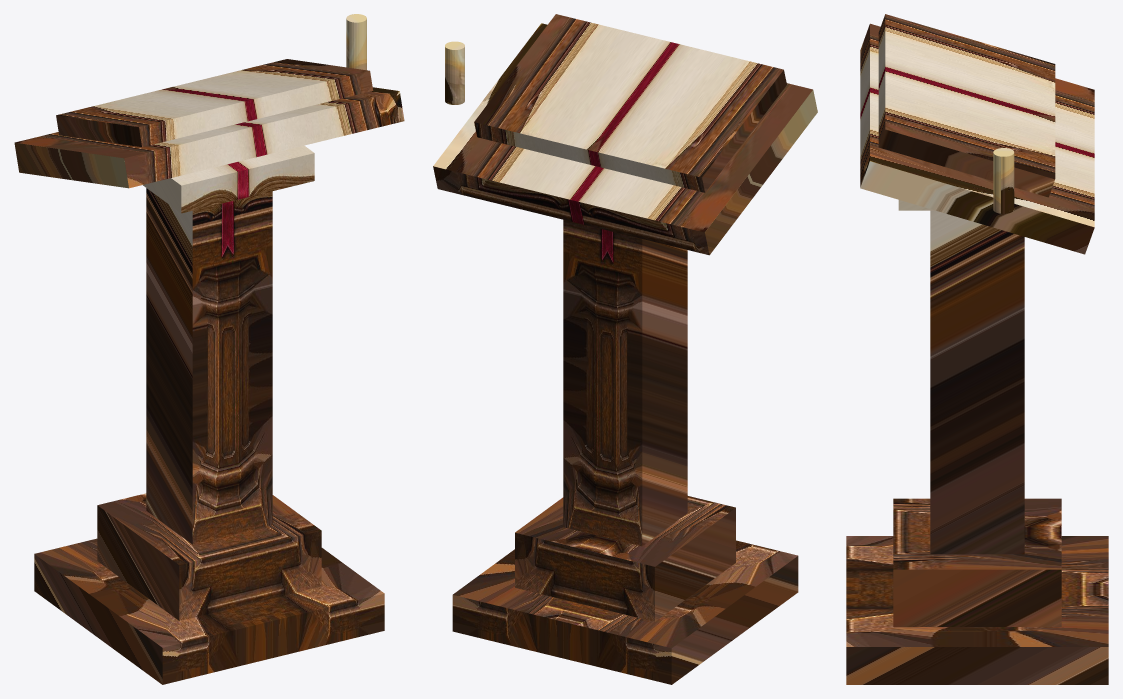
The model's file is v3-library-lectern.glb.
The picture shows the model from 3 angles, left to right: view 1: azimuth 30°, elevation 25°; view 2: azimuth 150°, elevation 25°; view 3: azimuth 270°, elevation 25°; orthographic projection. The views are drawn at different scales.
Visible parts, largest first — view 1: v3-library-lectern; view 2: v3-library-lectern; view 3: v3-library-lectern.
Part boxes in pixels (<box>): v3-library-lectern: <box>14,14,404,684</box>; v3-library-lectern: <box>433,14,817,684</box>; v3-library-lectern: <box>846,14,1108,684</box>.
Bounding box in the file's own units: 0.69 × 1.17 × 0.5.
Materials: 1 (1 with a texture image).
